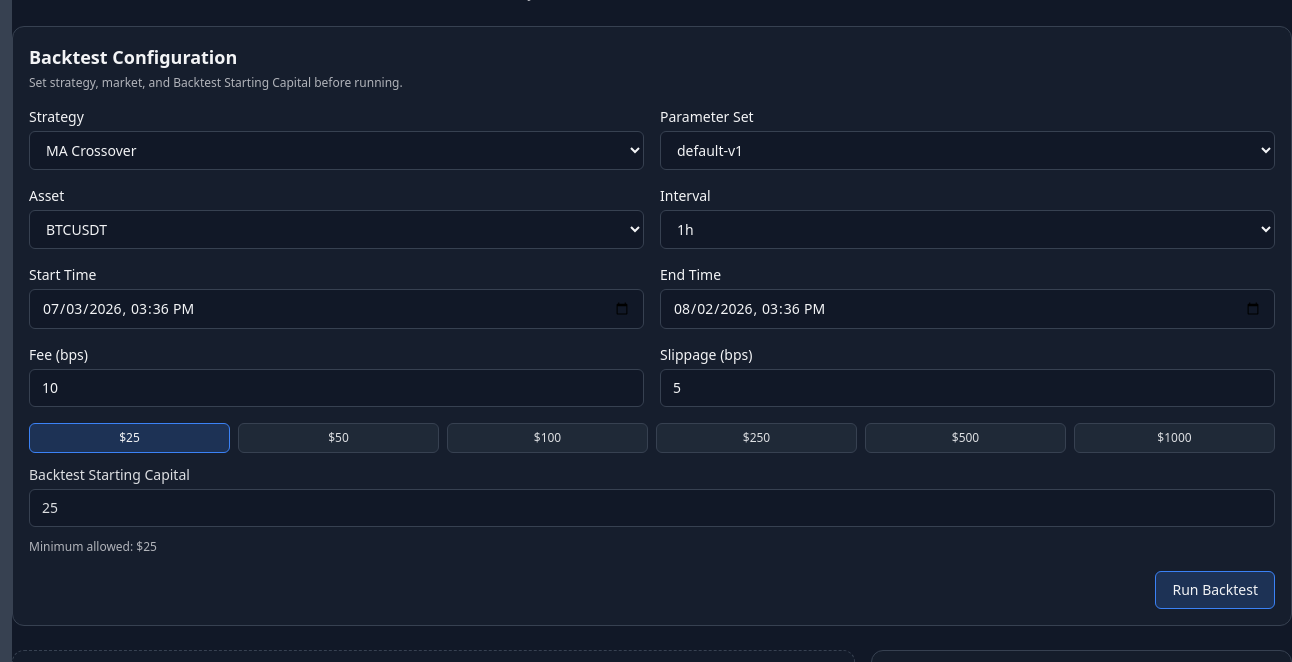
BacktestsPage › renders the small account warning when present
Expected: the heading "Backtest Configuration" is shown, top-left (29, 45), bottom-right (237, 69)
Click the button "Run Backtest": (1215, 590) top-left (1156, 571), bottom-right (1275, 609)
(page scrolled)
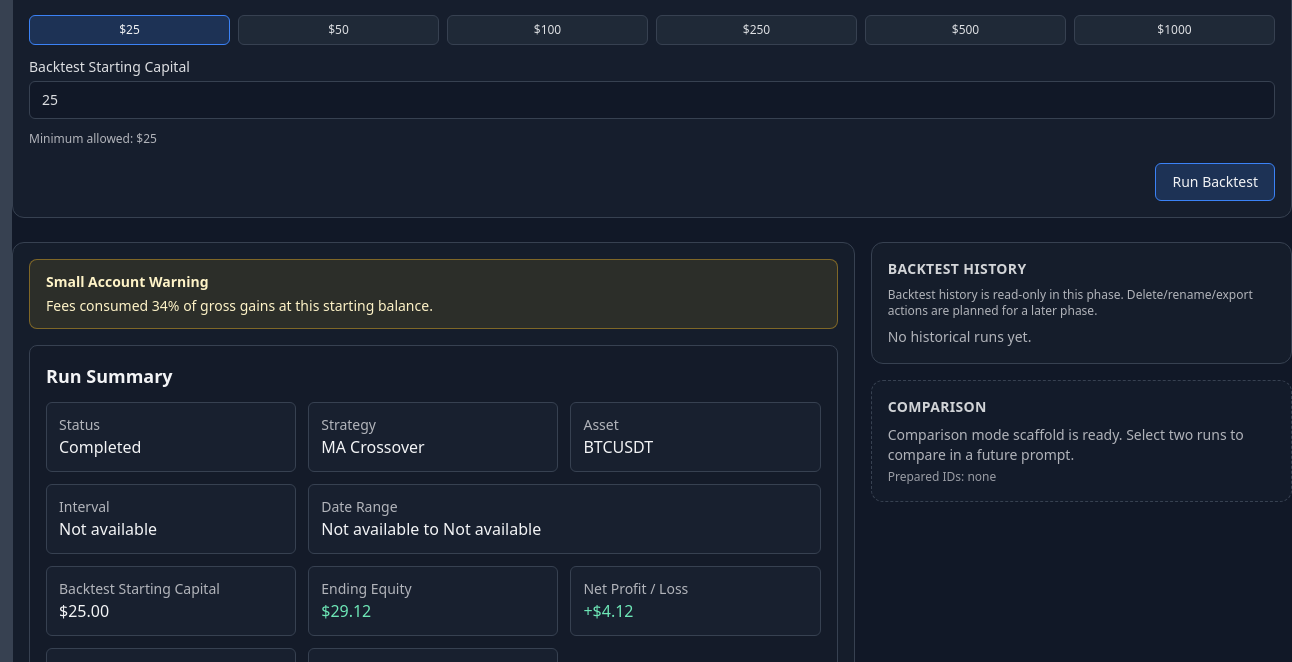
Now the text "Small Account Warning" is shown, box top-left (46, 272), bottom-right (208, 291)
Now the text "Fees consumed 34% of gross gains at this starting balance." is shown, box top-left (46, 296), bottom-right (433, 315)
